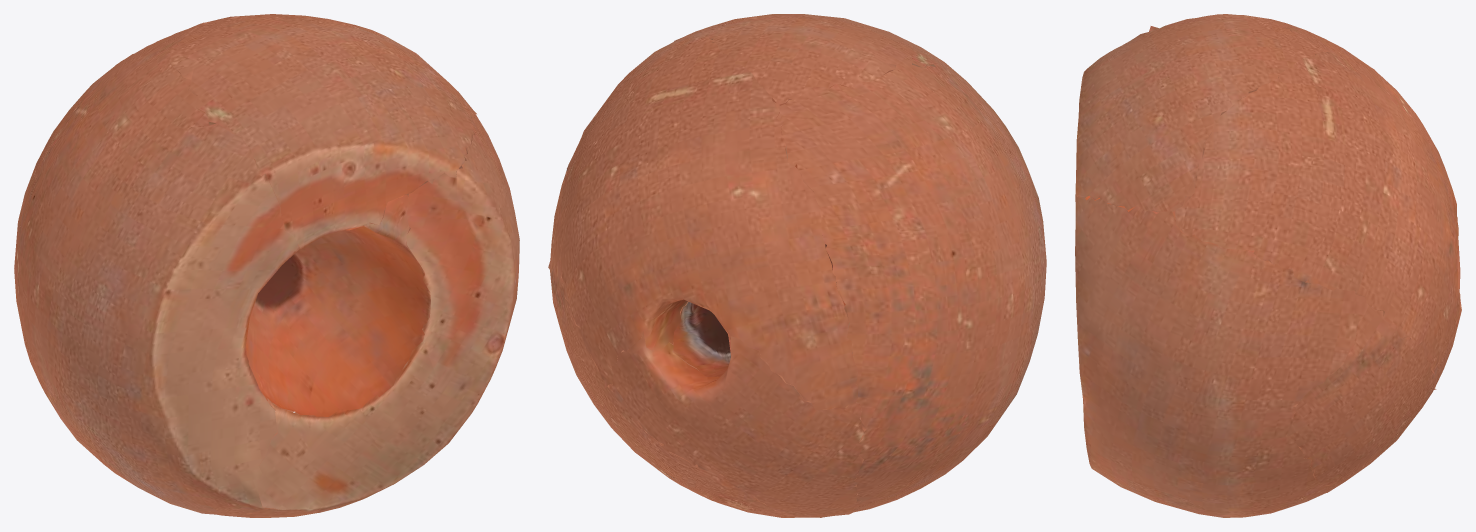
The model's file is climbing_hold.glb.
3 views of the same model, side by side, from view 1: azimuth 30°, elevation 25°; view 2: azimuth 150°, elevation 25°; view 3: azimuth 270°, elevation 25° (orthographic). The views are drawn at different scales.
Visible parts, largest first — view 1: Model; view 2: Model; view 3: Model.
Boxes of the visible parts, x1,y1,x2,y2 form: Model: (14, 14, 519, 517); Model: (548, 14, 1046, 517); Model: (1075, 14, 1461, 517).
Size of the model in its own units: 0.1056 by 0.105 by 0.0816.
2 materials, 2 textured.
